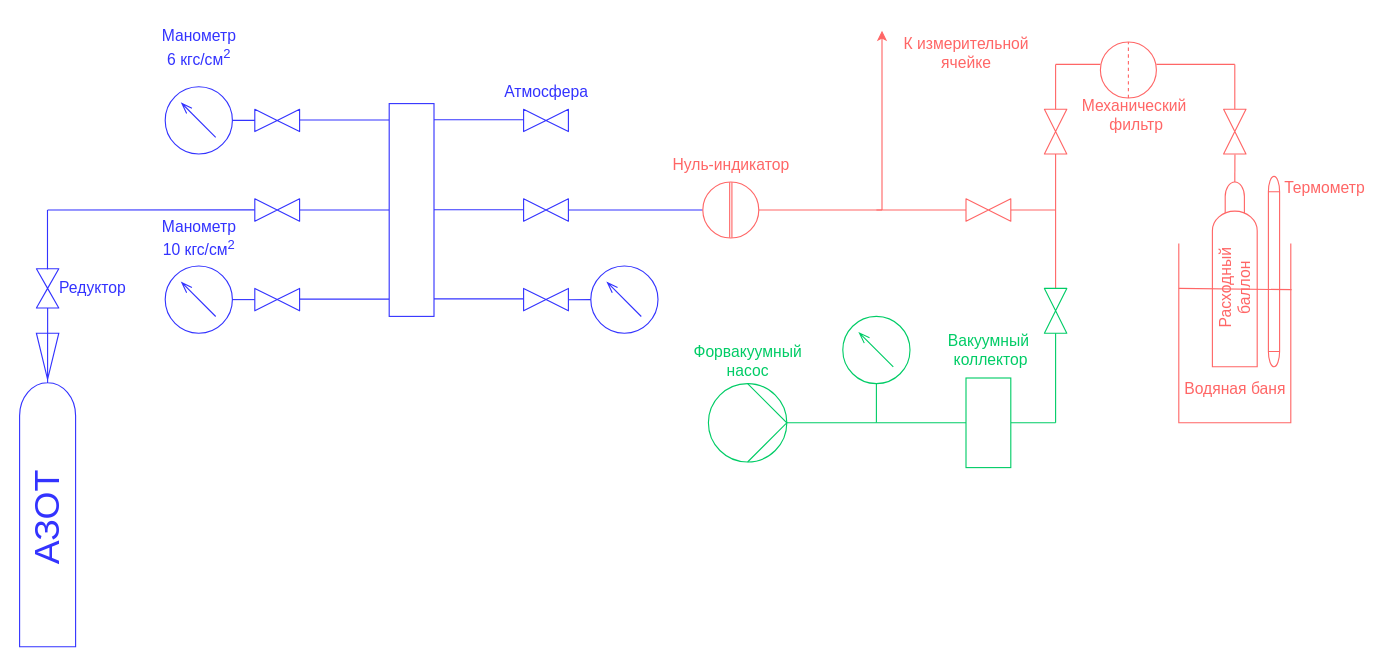
Some shapes in this 1394 by 666 pixel diagram are drawn without their labels. Here are the shapes that lost their labels. From the top down, the centre of each, then its label:
At (x=623, y=299): "Манометр 25 кгс/см 2".
At (x=875, y=349): "Вакуумметр".
